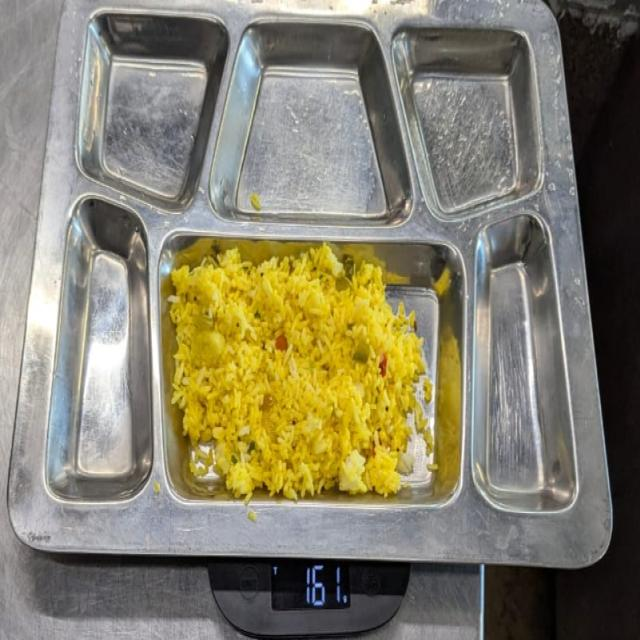Pulao: (168, 246, 427, 497)
